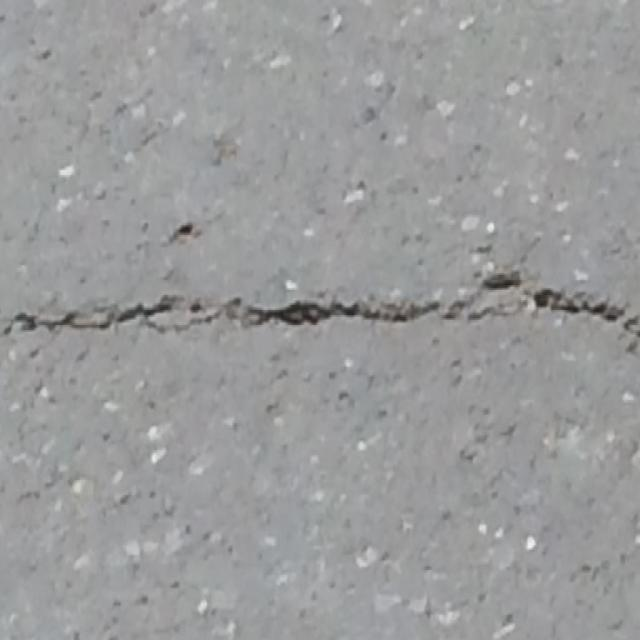crack: (1, 259, 638, 361)
